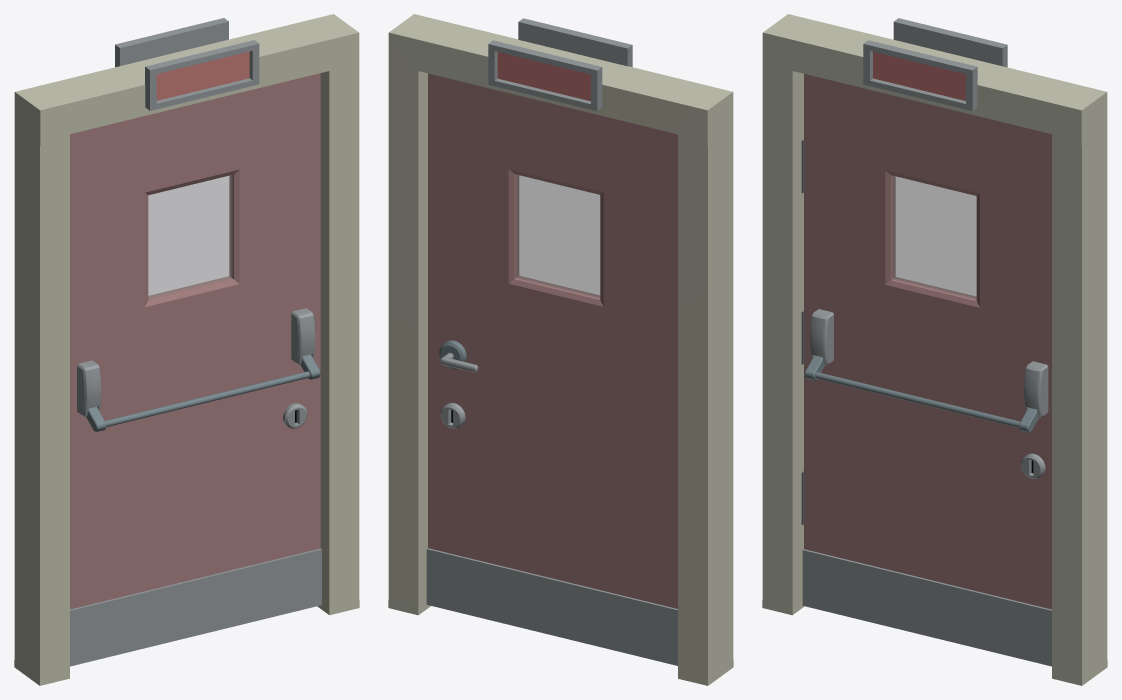
File: Stairway_Fire_Exit_Door.fbx
3 renders of one model, left to right at view 1: azimuth 30°, elevation 25°; view 2: azimuth 150°, elevation 25°; view 3: azimuth 330°, elevation 25°, orthographic.
Parts seen in each view (by area): view 1: polySurface36, pCube59, pCube60, pCube64, polySurface39; view 2: polySurface36, pCube59, pCube64, pCube60, pCylinder112; view 3: polySurface36, pCube59, pCube60, pCube64, polySurface39.
Boxes of the visible parts, <box> form: polySurface36: <box>70,73,321,666</box>; pCube59: <box>14,14,359,685</box>; pCube60: <box>145,40,259,110</box>; pCube64: <box>115,18,228,67</box>; polySurface39: <box>86,354,320,431</box>; polySurface36: <box>426,73,677,665</box>; pCube59: <box>388,14,733,685</box>; pCube64: <box>488,40,602,111</box>; pCube60: <box>518,18,632,67</box>; pCylinder112: <box>439,340,478,372</box>; polySurface36: <box>802,74,1051,666</box>; pCube59: <box>762,14,1107,685</box>; pCube60: <box>863,40,977,110</box>; pCube64: <box>893,18,1007,67</box>; polySurface39: <box>804,355,1038,432</box>.
Bounding box in the file's own units: 1.23 × 2.18 × 0.2558.
